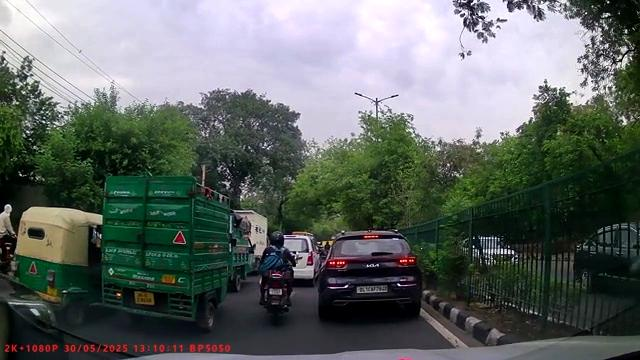motorcycle_with_helmet: (256, 229, 296, 323)
